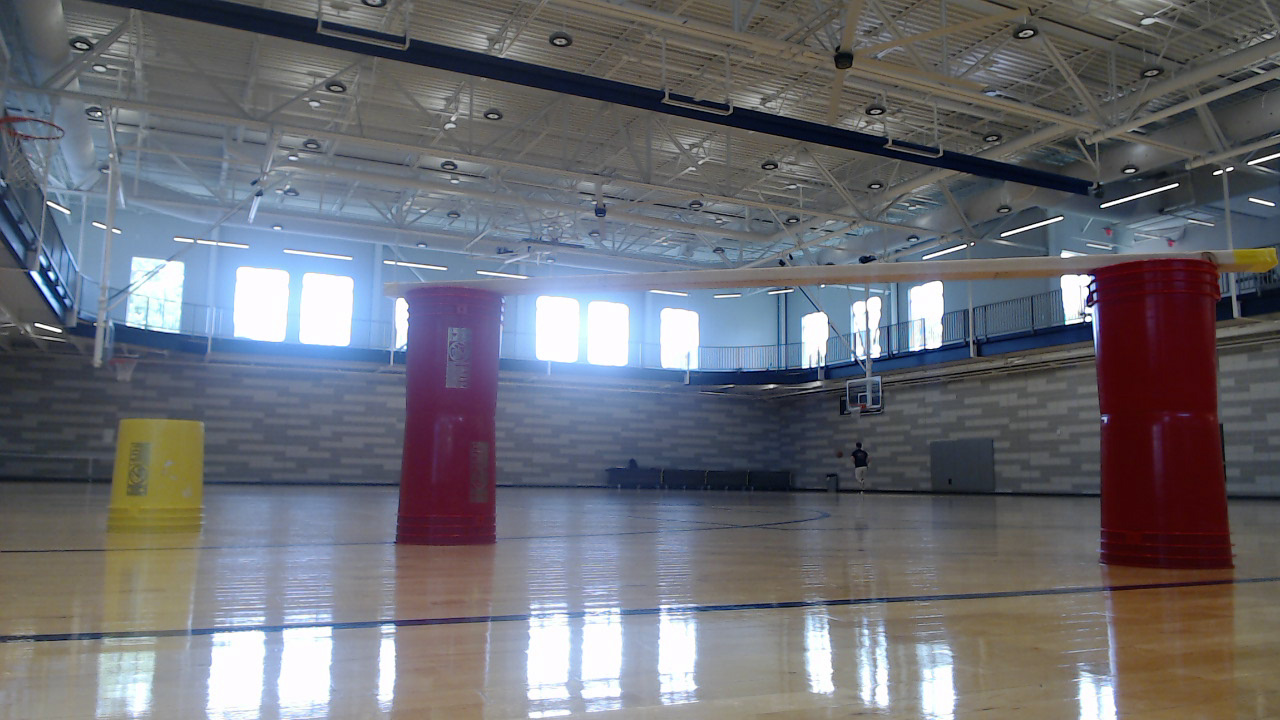red_bucket_arch: (395, 252, 1247, 580)
yellow_bucket: (108, 419, 216, 542)
